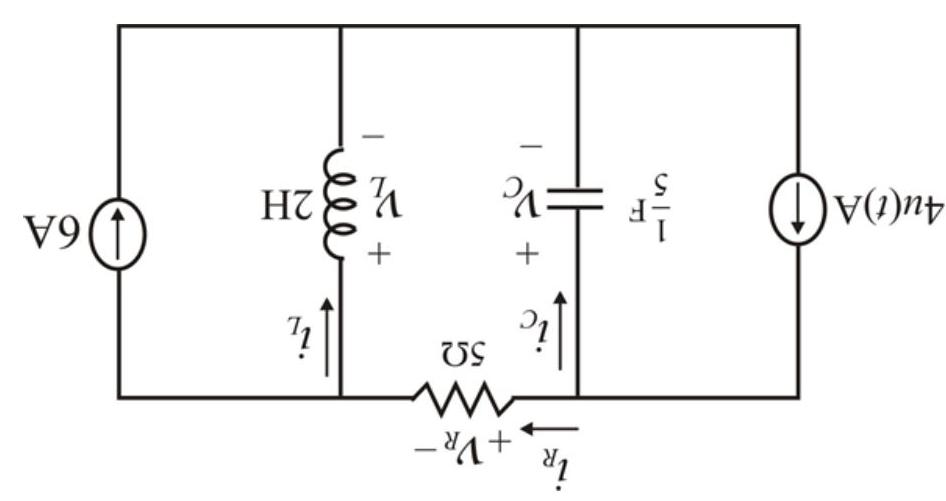inductor: (310, 140, 356, 281)
